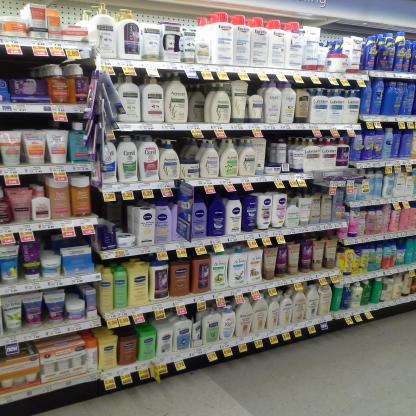Void: (7, 114, 52, 127), (98, 203, 126, 223), (2, 58, 32, 75)
